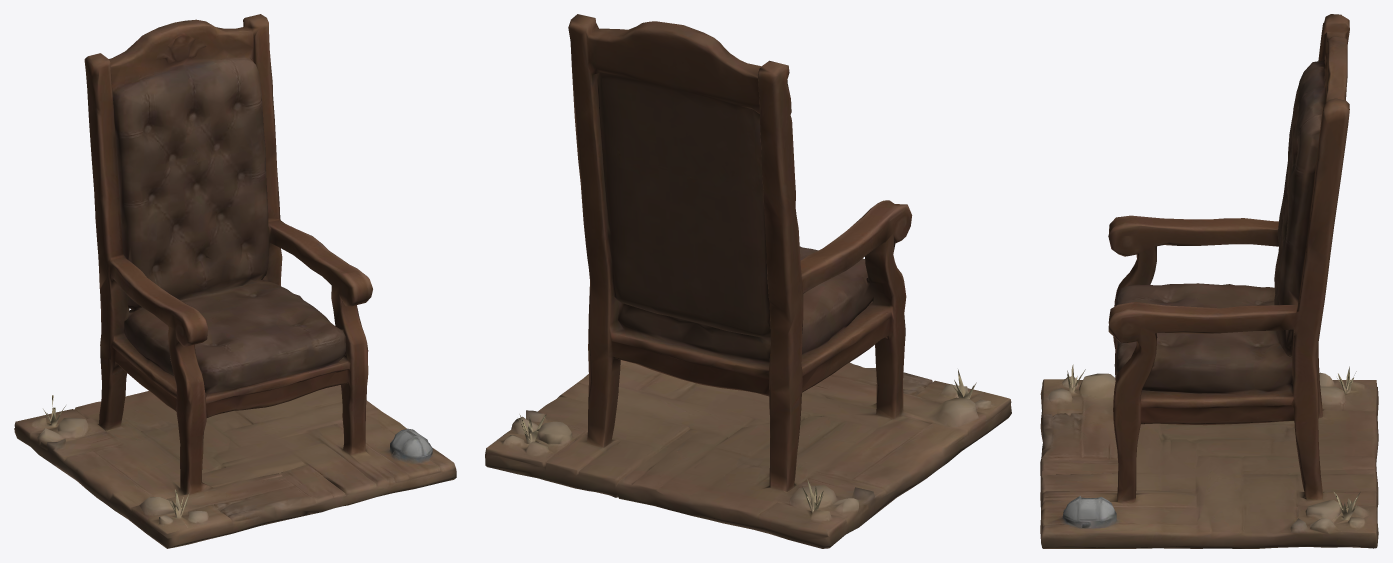
File: panel_chair.glb
3 views of the same model, side by side, from view 1: azimuth 30°, elevation 25°; view 2: azimuth 150°, elevation 25°; view 3: azimuth 270°, elevation 25° (orthographic). The views are drawn at different scales.
Visible parts, largest first — view 1: tripo_node_011f4af2-4efb-41e8-9aee-bbc6edac48ef; view 2: tripo_node_011f4af2-4efb-41e8-9aee-bbc6edac48ef; view 3: tripo_node_011f4af2-4efb-41e8-9aee-bbc6edac48ef.
Part boxes in pixels (x1,y1,x2,y2): tripo_node_011f4af2-4efb-41e8-9aee-bbc6edac48ef: [14, 14, 456, 548]; tripo_node_011f4af2-4efb-41e8-9aee-bbc6edac48ef: [485, 14, 1011, 548]; tripo_node_011f4af2-4efb-41e8-9aee-bbc6edac48ef: [1040, 14, 1378, 548].
Size of the model in its own units: 0.7839 by 1 by 0.7193.
1 material, 1 textured.
